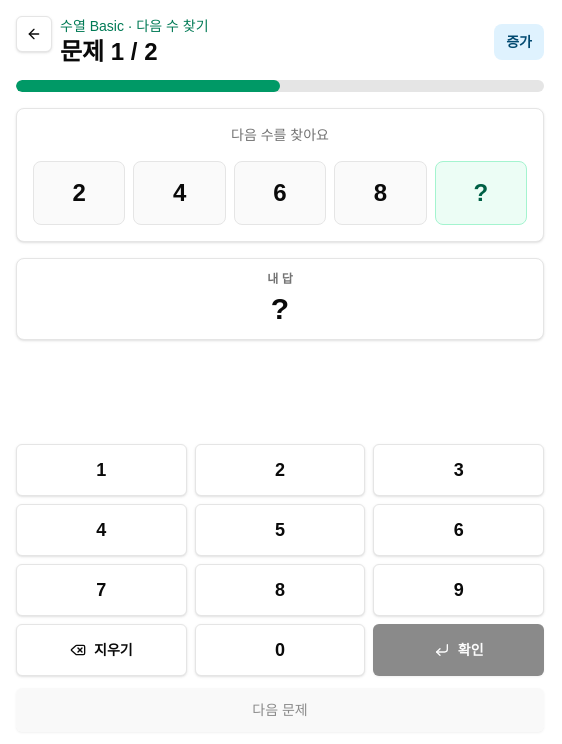
Scenario: SequenceLearning › keeps the same question active after the first wrong answer
This screenshot has width=562, height=744.
Click the button "9". click: (459, 590)
box: [373,564,544,616]
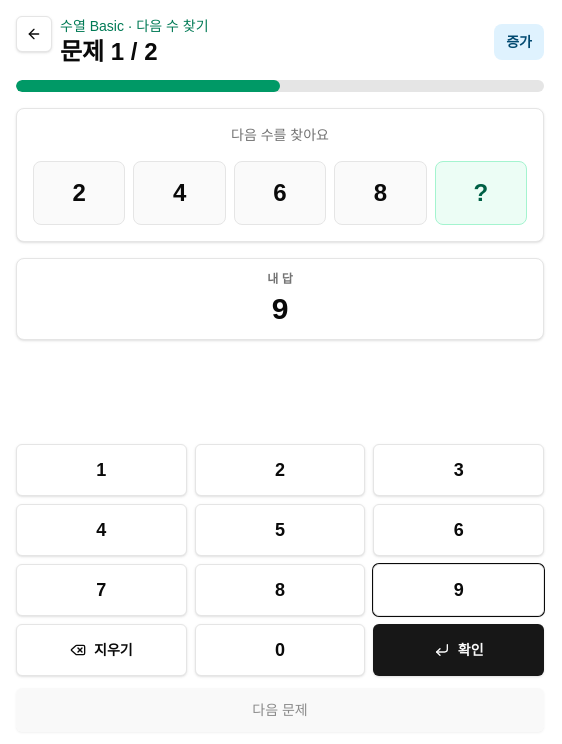
Click the button with aria-label "정답 확인". click: (459, 650)
box: [373,624,544,676]
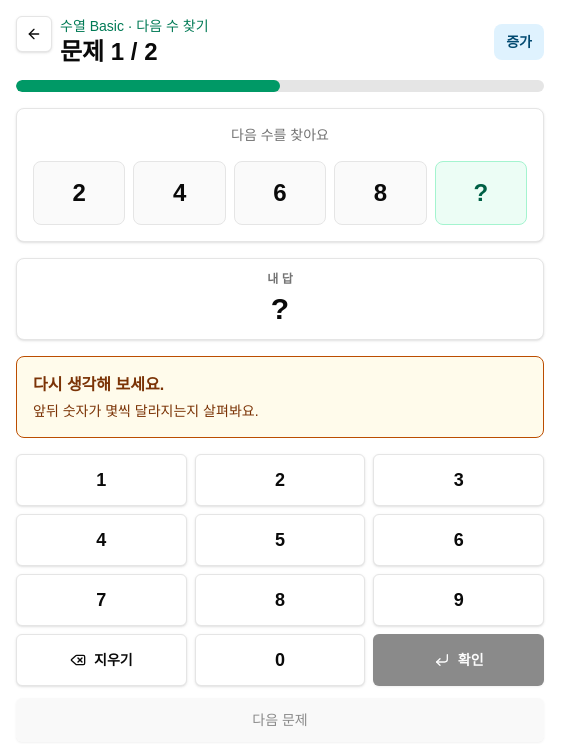
Expected: the list named "수열 2, 4, 6, 8, 다음 수" is shown, [33,161,527,225]
Expected: the text "다시 생각해 보세요." is shown, [33,376,164,393]
